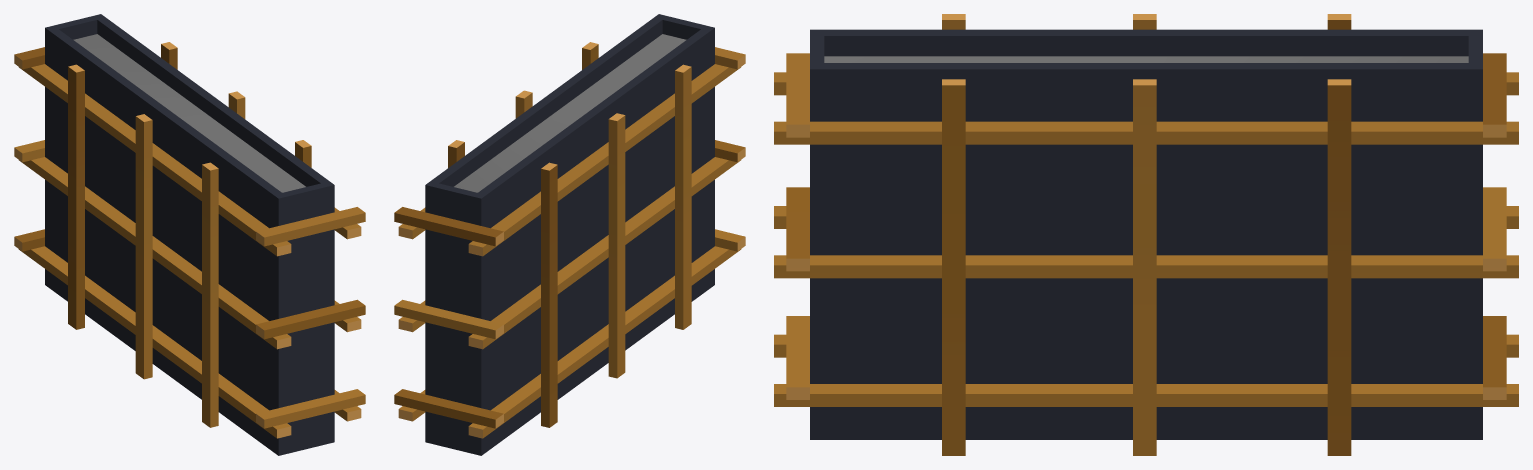
The model's file is ConcrateFrame_1_1.fbx.
The picture shows the model from 3 angles, left to right: view 1: azimuth 30°, elevation 25°; view 2: azimuth 150°, elevation 25°; view 3: azimuth 270°, elevation 25°; orthographic projection. The views are drawn at different scales.
Visible parts, largest first — view 1: ConcrateFrame_1_1; view 2: ConcrateFrame_1_1; view 3: ConcrateFrame_1_1.
Boxes of the visible parts, box(x1,y1,x2,y2) form: ConcrateFrame_1_1: box(14, 14, 365, 455); ConcrateFrame_1_1: box(394, 14, 745, 455); ConcrateFrame_1_1: box(774, 14, 1518, 455).
Bounding box in the file's own units: 105 × 254 × 463.
